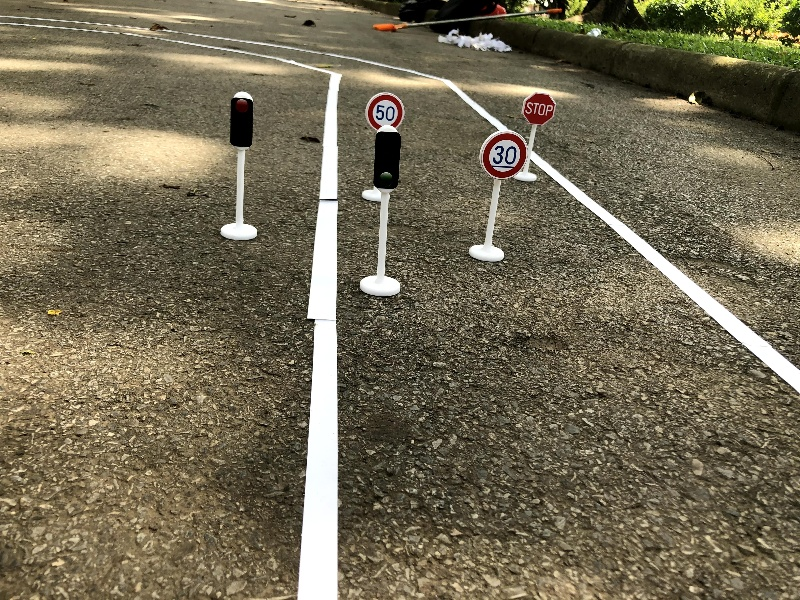Bien_bao_30: (461, 128, 529, 271)
Bien_bao_50: (360, 91, 418, 123)
Den_Do: (215, 88, 267, 246)
Den_Xanh: (356, 125, 411, 302)
Stop: (514, 88, 564, 124)
